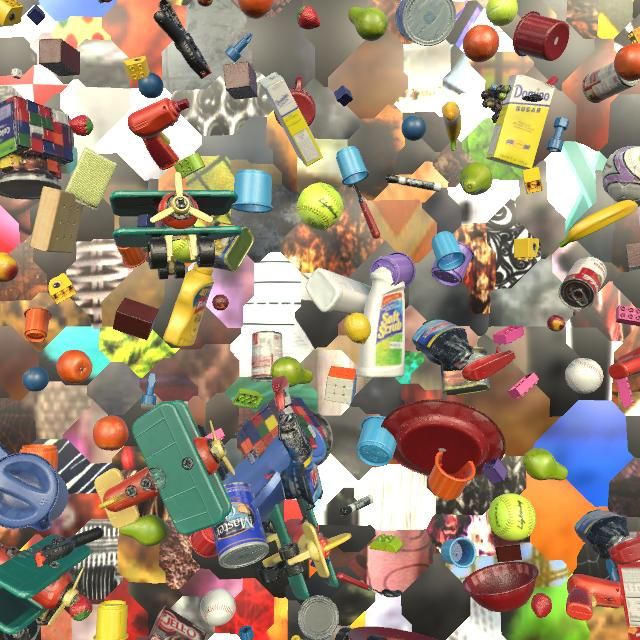ycb_002_master_chef_can: (212, 482, 269, 569), (396, 0, 456, 46)
ycb_003_cracker_box: (617, 531, 640, 640)
ycb_004_sugar_box: (486, 74, 555, 169), (259, 72, 323, 167)
ycb_005_tomato_soup_can: (558, 256, 607, 310), (582, 62, 640, 103), (251, 331, 283, 382)
ycb_006_mustard_bottle: (163, 263, 214, 347), (291, 635, 302, 640)
ycb_007_tuna_fish_can: (298, 595, 339, 640)
ycb_008_pudding_box: (148, 606, 207, 640), (31, 625, 41, 640)
ycb_010_potted_meat_can: (440, 347, 490, 395), (210, 220, 254, 272)
ycb_011_banana: (559, 200, 638, 248), (442, 101, 461, 151)
ycb_012_strawberry: (69, 595, 93, 621), (297, 6, 320, 30), (531, 593, 552, 618), (69, 115, 93, 136)
ycb_014_lemon: (344, 312, 371, 345)
ycb_015_peach: (0, 252, 19, 282)
ycb_016_pear: (119, 514, 168, 547), (523, 448, 568, 480), (348, 7, 387, 41), (270, 357, 313, 387), (459, 162, 493, 195)
ycb_017_orange: (463, 24, 500, 63), (93, 415, 129, 451), (57, 350, 92, 384), (614, 43, 640, 81), (238, 0, 274, 19)
